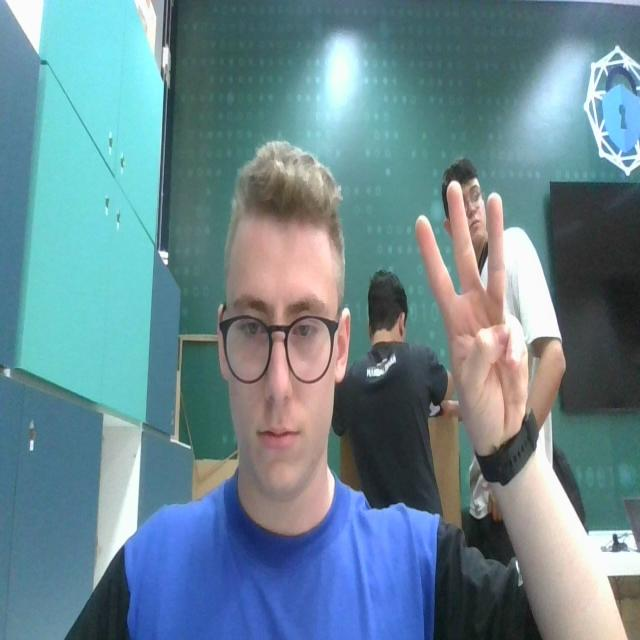W: (417, 175, 533, 438)
